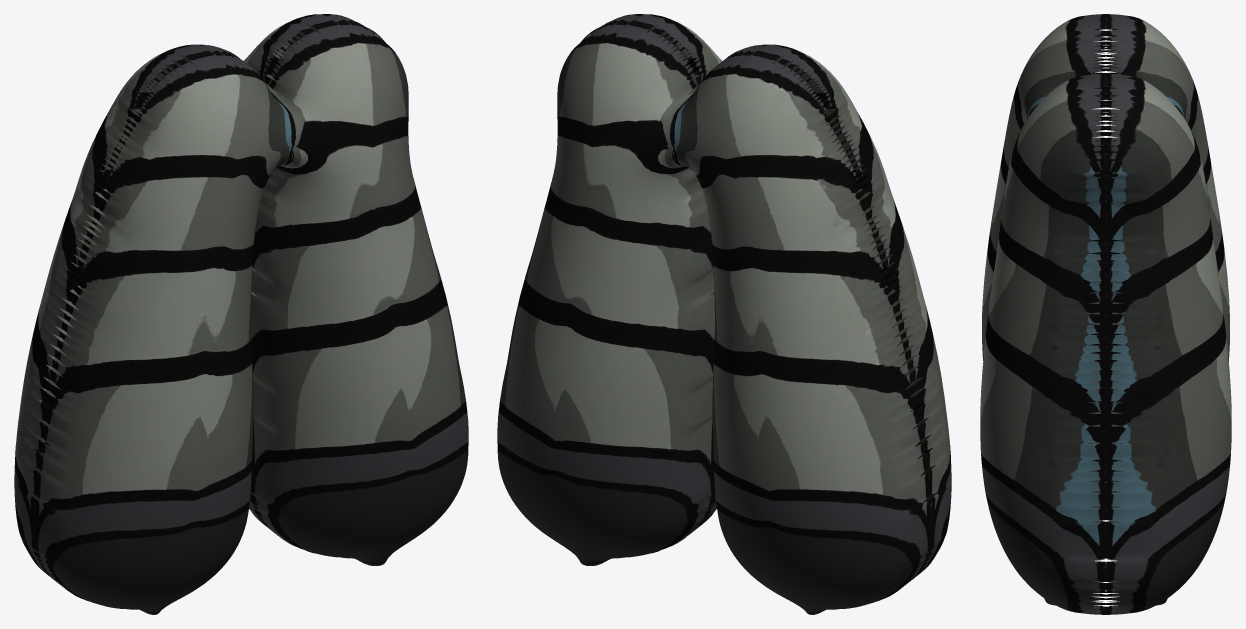
File: front_conduits.glb
The picture shows the model from 3 angles, left to right: view 1: azimuth 30°, elevation 25°; view 2: azimuth 150°, elevation 25°; view 3: azimuth 270°, elevation 25°; orthographic projection. The views are drawn at different scales.
Parts seen in each view (by area): view 1: front_conduits; view 2: front_conduits; view 3: front_conduits.
Part boxes in pixels (box(x1,y1,x2,y2)): front_conduits: box(14, 14, 468, 614); front_conduits: box(497, 14, 951, 614); front_conduits: box(980, 14, 1231, 614).
Bounding box in the file's own units: 0.9867 × 1.19 × 0.5342.
1 material, 1 textured.
